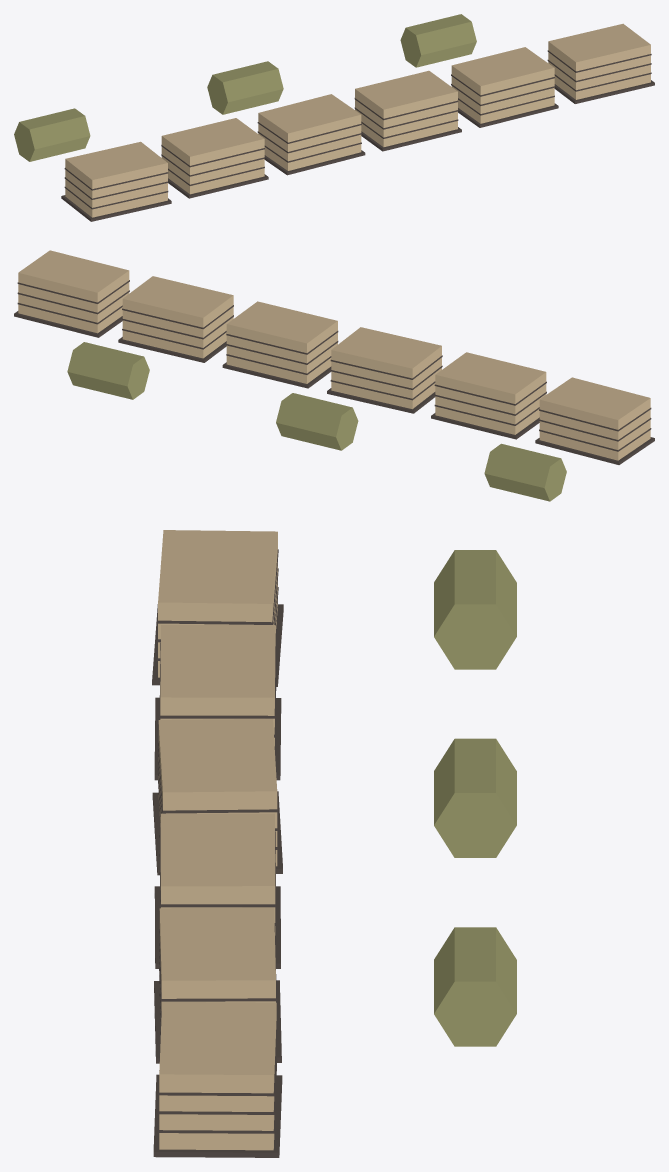
Rendered from SM_AcopioCombustible_v2_Vacio_LOD1.fbx.
3 renders of one model, top to bottom at view 1: azimuth 30°, elevation 25°; view 2: azimuth 150°, elevation 25°; view 3: azimuth 270°, elevation 25°, orthographic. The views are drawn at different scales.
Parts seen in each view (by area): view 1: SM_acopio_carga_v7_LOD1; view 2: SM_acopio_carga_v7_LOD1; view 3: SM_acopio_carga_v7_LOD1.
Part boxes in pixels (x1,y1,x2,y2): SM_acopio_carga_v7_LOD1: (14,14,654,221); SM_acopio_carga_v7_LOD1: (14,250,654,501); SM_acopio_carga_v7_LOD1: (152,530,516,1157).
Size of the model in its own units: 9.1 by 0.62 by 2.55.
